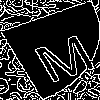M: (25, 25, 100, 85)
